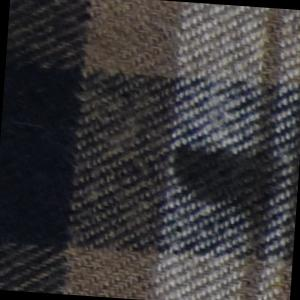Stain: (163, 138, 293, 233)
